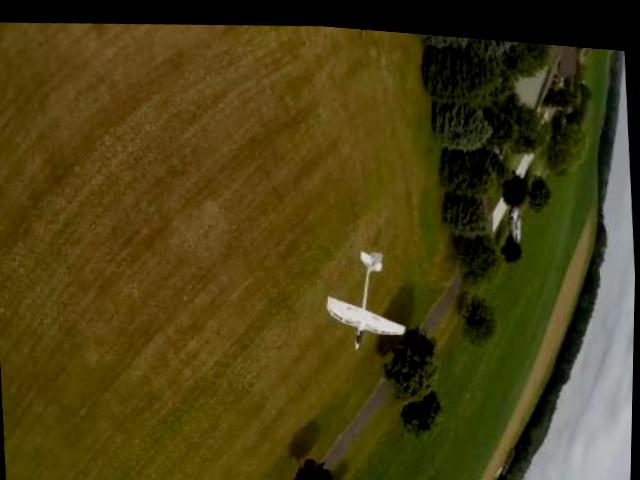uav: (318, 237, 411, 347)
